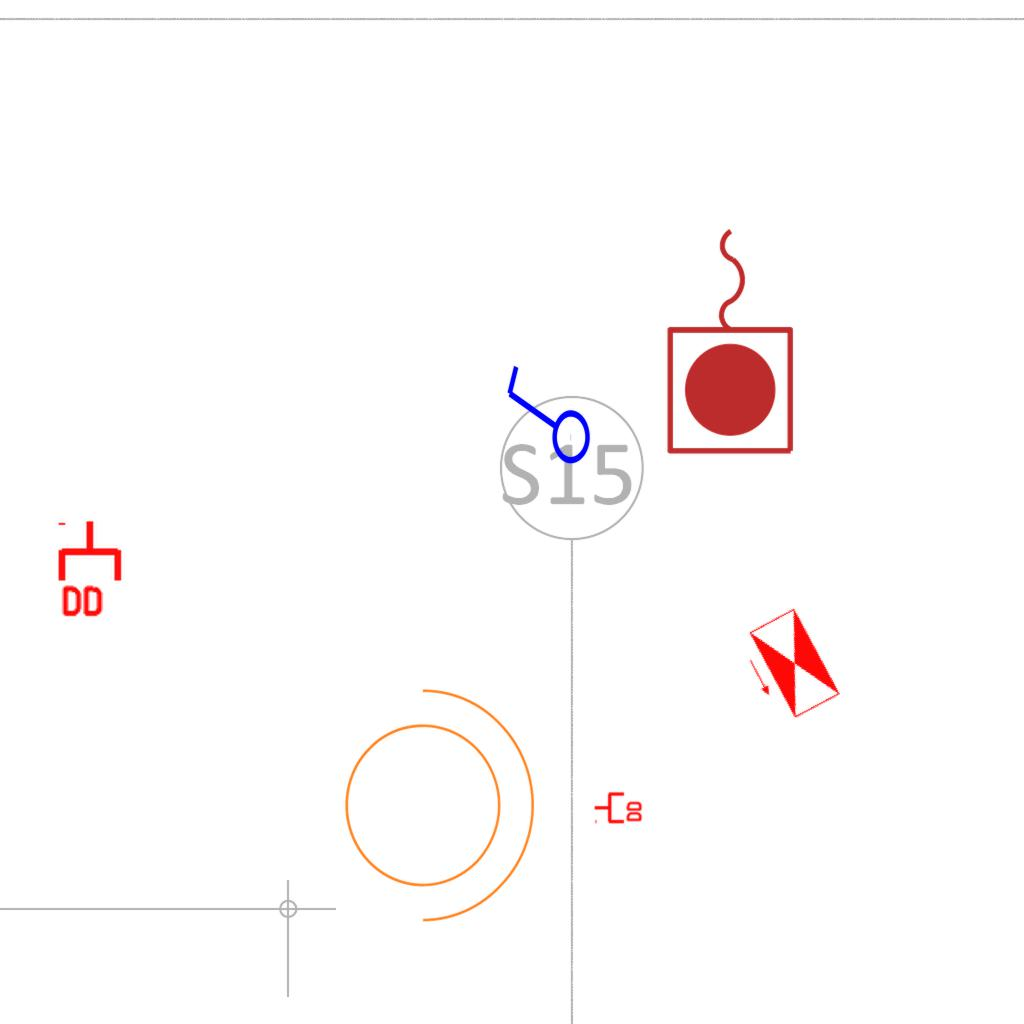Ausschalter: (497, 363, 593, 475)
Datenanschluss_zweifach: (57, 518, 126, 621), (593, 790, 644, 824)
Fluchtwegpiktogramm: (730, 603, 845, 731)
Scheinwerfer_fuer_Alarmbeleuchtung: (320, 667, 545, 931)
Zugtaster: (660, 218, 804, 462)
